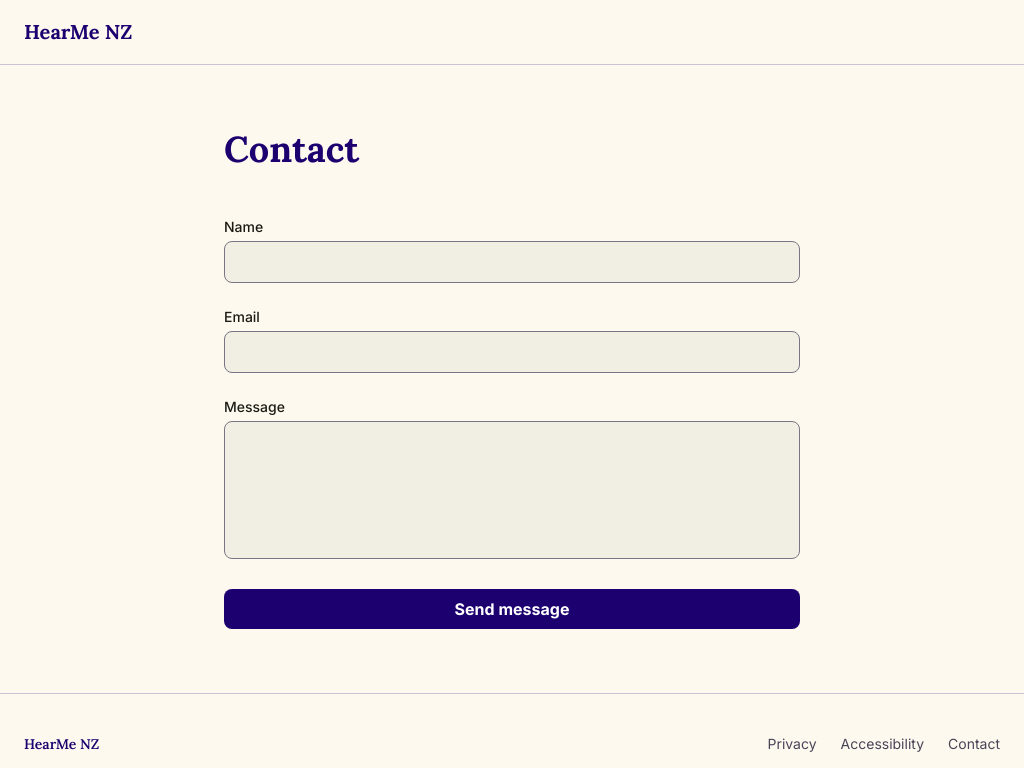
ContactPage › shows 3 validation errors when submitted empty
The image size is (1024, 768).
Click the button "Send message" at [512, 609], box [224,589,800,629]
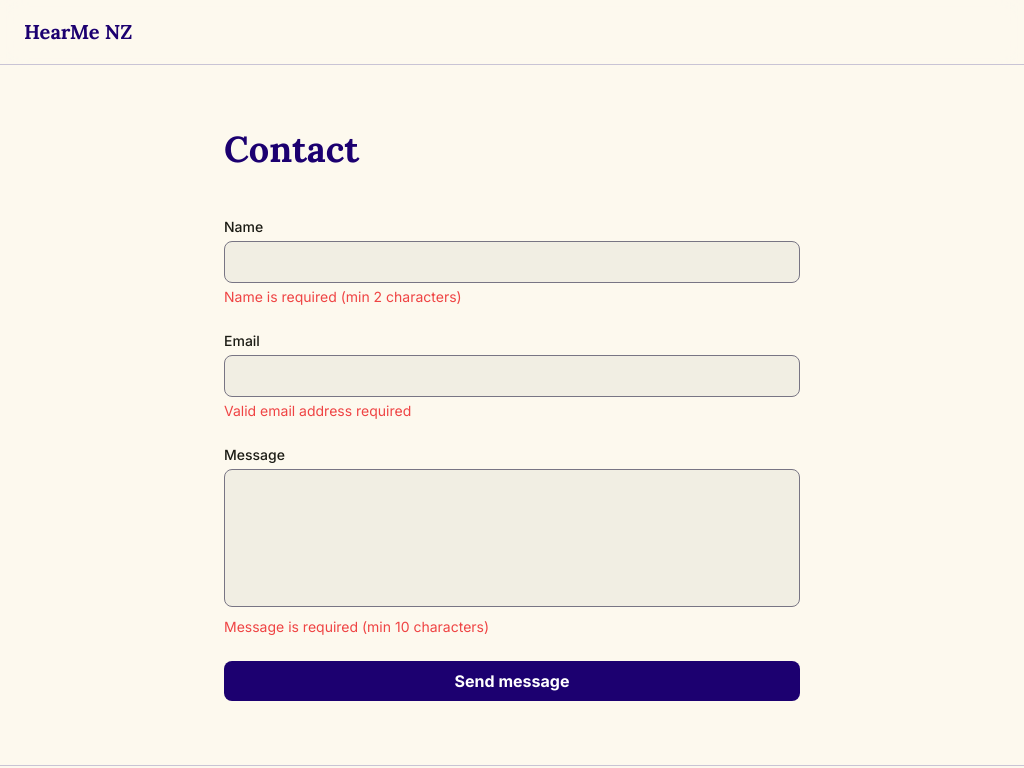
Now the text "Name is required (min 2 characters)" is shown, box [224,288,462,305]
Now the text "Valid email address required" is shown, box [224,402,411,419]
Now the text "Message is required (min 10 characters)" is shown, box [224,618,489,635]
